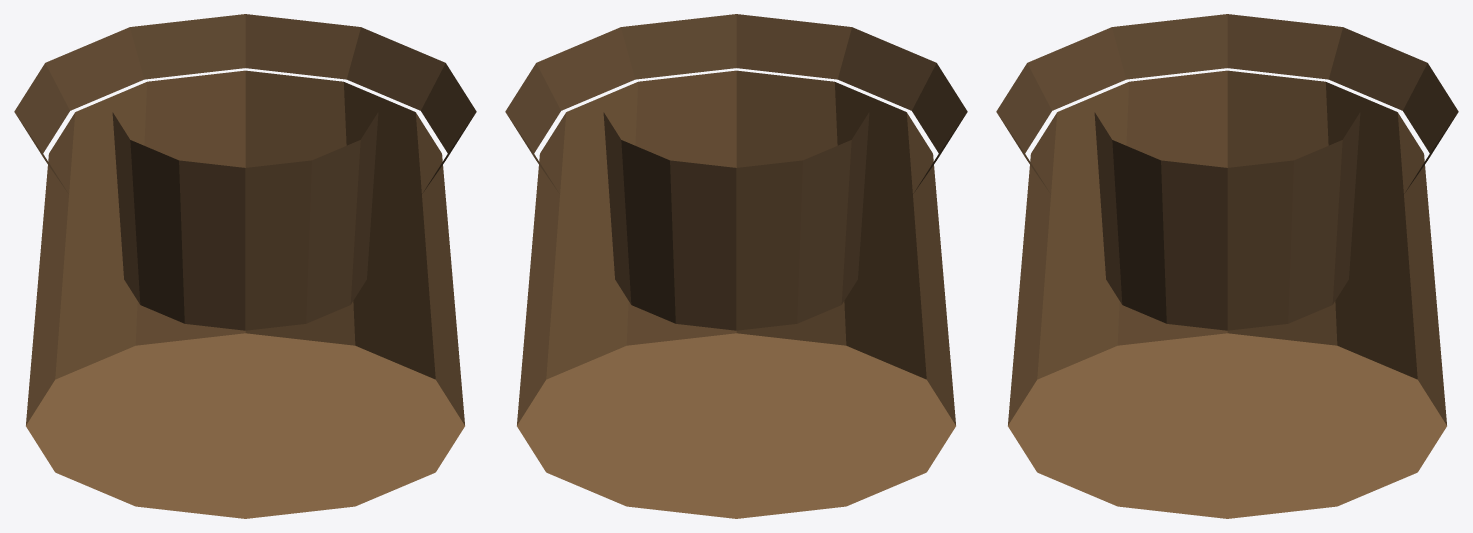
The model's file is launch_tube.glb.
3 renders of one model, left to right at view 1: azimuth 30°, elevation 25°; view 2: azimuth 150°, elevation 25°; view 3: azimuth 270°, elevation 25°, orthographic.
Parts seen in each view (by area): view 1: barrel, rim; view 2: barrel, rim; view 3: barrel, rim.
Part boxes in pixels (x1,y1,x2,y2): barrel: (26,70,464,518); rim: (14,14,476,330); barrel: (517,70,955,518); rim: (505,14,967,330); barrel: (1008,70,1446,518); rim: (996,14,1458,330).
Size of the model in its own units: 0.4 by 0.3 by 0.4.
